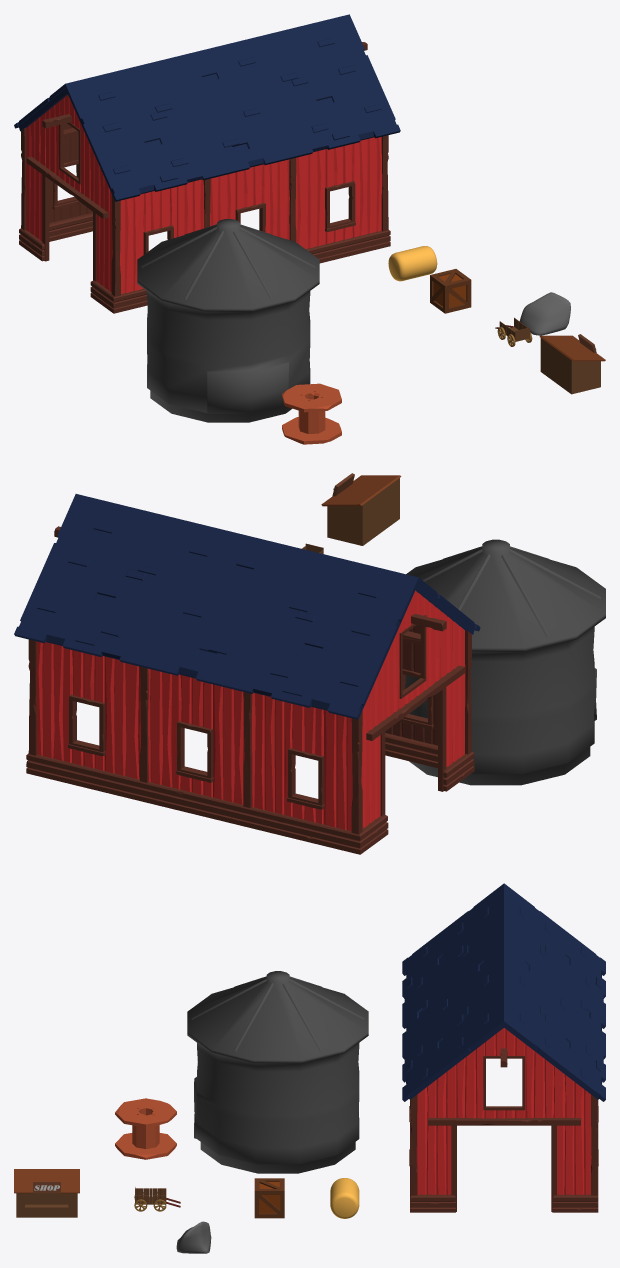
3 renders of one model, top to bottom at view 1: azimuth 30°, elevation 25°; view 2: azimuth 150°, elevation 25°; view 3: azimuth 270°, elevation 25°, orthographic. The views are drawn at different scales.
Visible parts, largest first — view 1: ферма, какая то железная хуйня, shop, катушка, скала джонсан, коробка, сено, тележка; view 2: ферма, какая то железная хуйня, shop; view 3: ферма, какая то железная хуйня, shop, катушка, коробка, сено, скала джонсан, тележка.
Part boxes in pixels (bbox=[...]): ферма: bbox=[14, 14, 400, 313]; какая то железная хуйня: bbox=[137, 219, 319, 422]; shop: bbox=[539, 334, 605, 394]; катушка: bbox=[282, 383, 341, 444]; скала джонсан: bbox=[519, 292, 570, 335]; коробка: bbox=[430, 269, 471, 313]; сено: bbox=[388, 246, 437, 281]; тележка: bbox=[495, 317, 532, 346]; ферма: bbox=[14, 494, 480, 854]; какая то железная хуйня: bbox=[405, 539, 605, 785]; shop: bbox=[321, 473, 401, 545]; ферма: bbox=[402, 883, 605, 1212]; какая то железная хуйня: bbox=[187, 971, 368, 1173]; shop: bbox=[14, 1169, 79, 1217]; катушка: bbox=[115, 1098, 176, 1159]; коробка: bbox=[254, 1178, 284, 1218]; сено: bbox=[330, 1178, 359, 1218]; скала джонсан: bbox=[176, 1221, 211, 1253]; тележка: bbox=[134, 1187, 180, 1211].
Size of the model in its own units: 9791 by 5870 by 13496.
